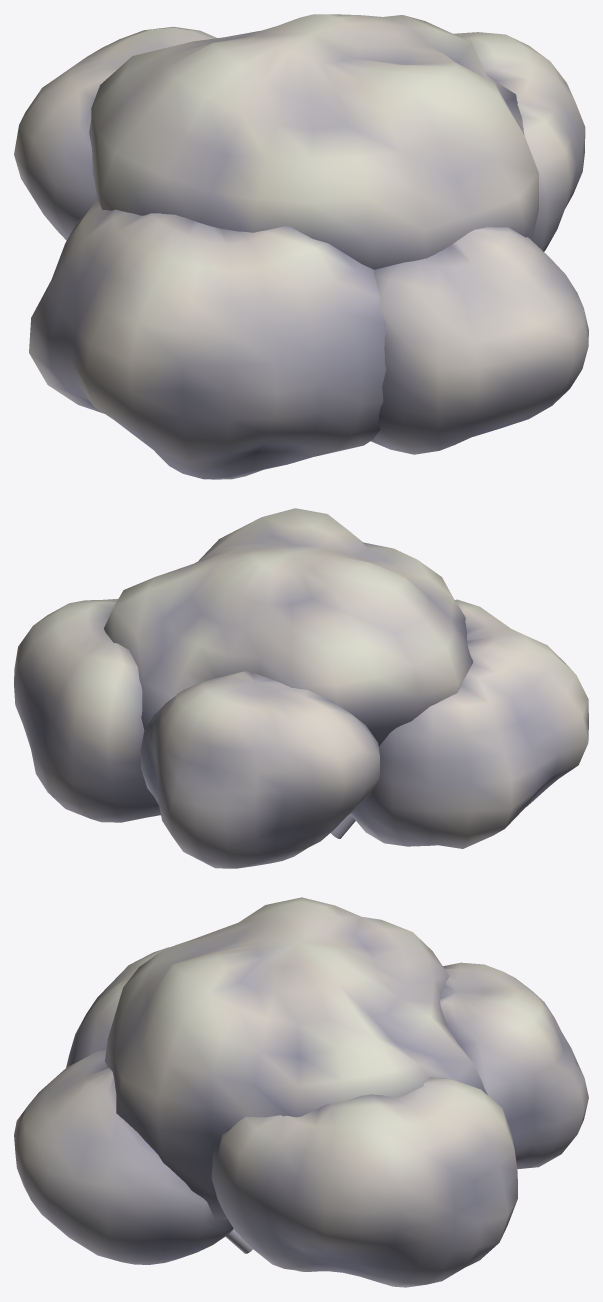
Rendered from scrub.glb.
3 renders of one model, top to bottom at view 1: azimuth 30°, elevation 25°; view 2: azimuth 150°, elevation 25°; view 3: azimuth 270°, elevation 25°, orthographic. The views are drawn at different scales.
Parts seen in each view (by area): view 1: body; view 2: body; view 3: body.
Part boxes in pixels (x1=…): body: x1=14, y1=14, x2=588, y2=479; body: x1=14, y1=508, x2=588, y2=868; body: x1=14, y1=897, x2=588, y2=1287.
Size of the model in its own units: 1.84 by 1.07 by 1.8.
